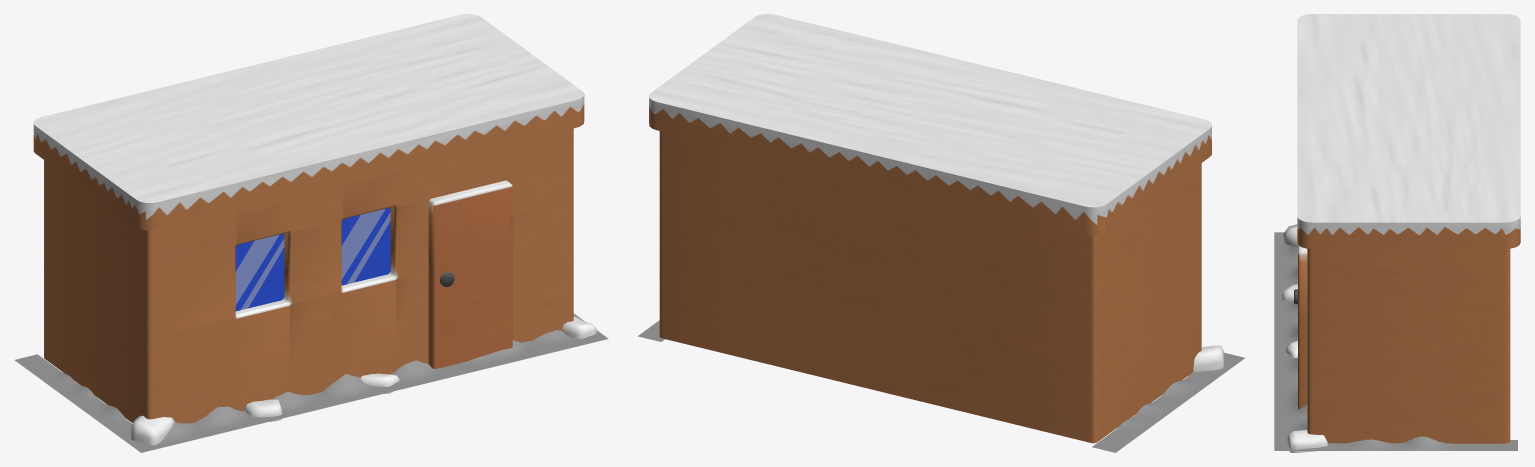
Rendered from station.FBX.
3 views of the same model, side by side, from view 1: azimuth 30°, elevation 25°; view 2: azimuth 150°, elevation 25°; view 3: azimuth 270°, elevation 25° (orthographic). The views are drawn at different scales.
Visible parts, largest first — view 1: Cylinder036; view 2: Cylinder036; view 3: Cylinder036.
Part boxes in pixels (x1,y1,x2,y2): Cylinder036: (14,14,608,452); Cylinder036: (638,14,1244,452); Cylinder036: (1274,14,1520,452).
Bounding box in the file's own units: 510 × 252 × 242.
Materials: 3 (2 with a texture image).
